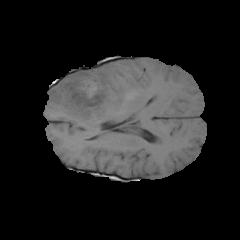glioma: (47, 66, 125, 126)
